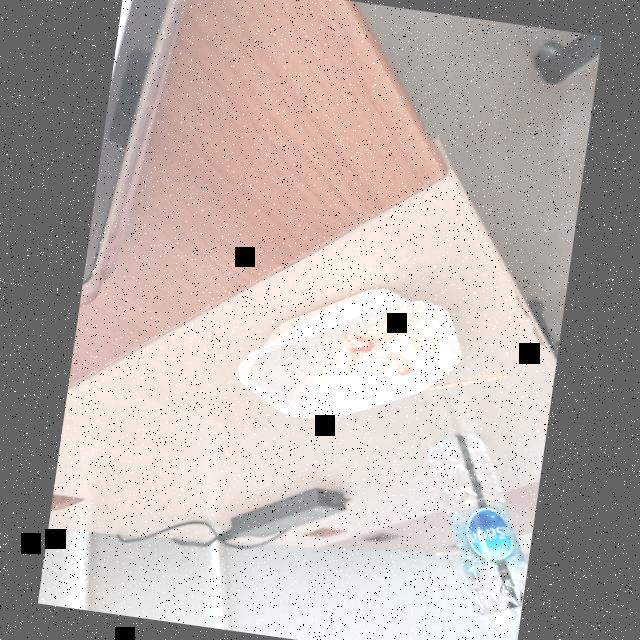cardboard_bowl: (225, 263, 476, 446)
stick: (426, 359, 512, 408)
